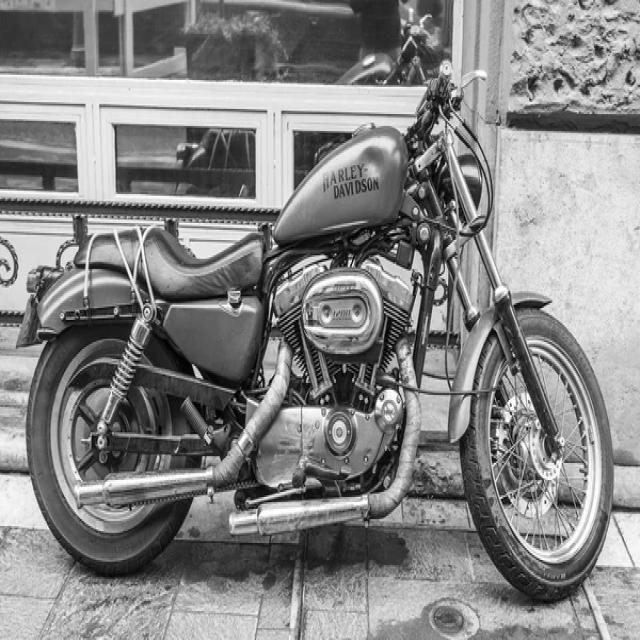Motorcycle: (18, 63, 613, 602)
